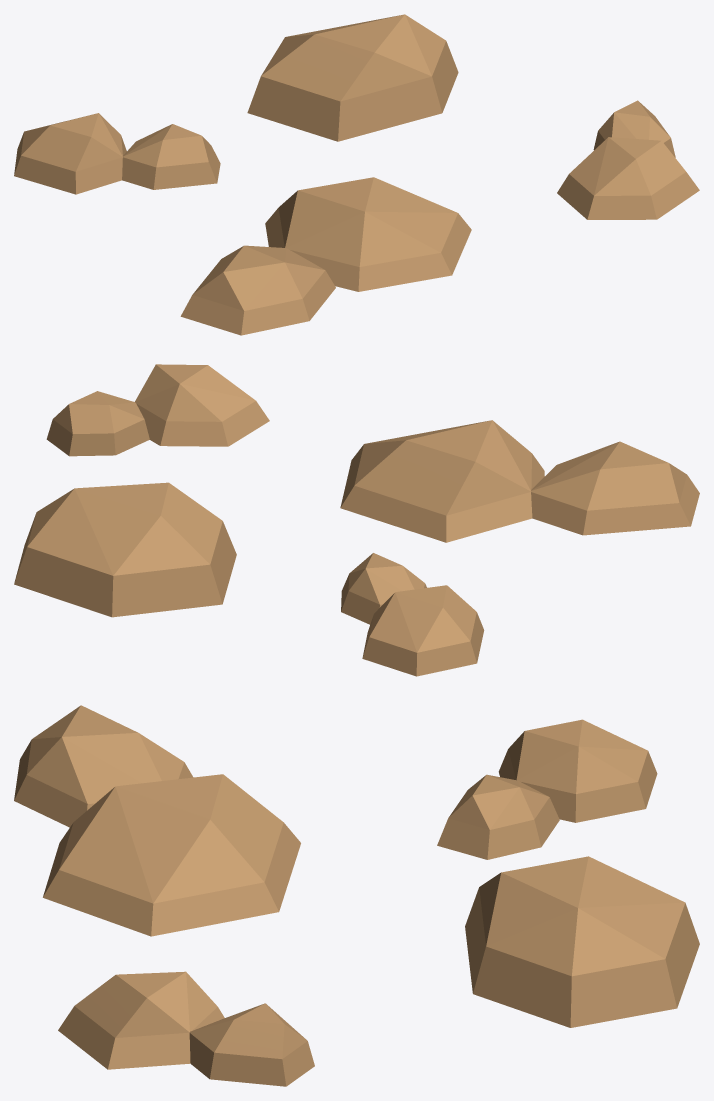
The model's file is rock__pebbles1_dirt_light.glb.
3 renders of one model, top to bottom at view 1: azimuth 30°, elevation 25°; view 2: azimuth 150°, elevation 25°; view 3: azimuth 270°, elevation 25°, orthographic. The views are drawn at different scales.
Parts seen in each view (by area): view 1: pebbles1.dirt.light; view 2: pebbles1.dirt.light; view 3: pebbles1.dirt.light.
Boxes of the visible parts, x1,y1,x2,y2 form: pebbles1.dirt.light: (14, 14, 699, 335); pebbles1.dirt.light: (14, 364, 699, 676); pebbles1.dirt.light: (14, 705, 699, 1086).
Bounding box in the file's own units: 1.96 × 0.241 × 1.65.
1 material, 1 textured.
